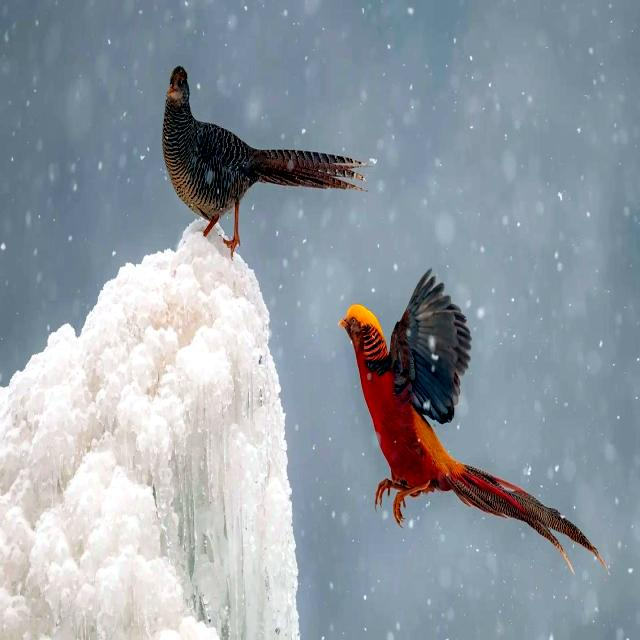Chrysolophus pictus feather: (449, 466, 609, 572), (248, 147, 367, 190)
